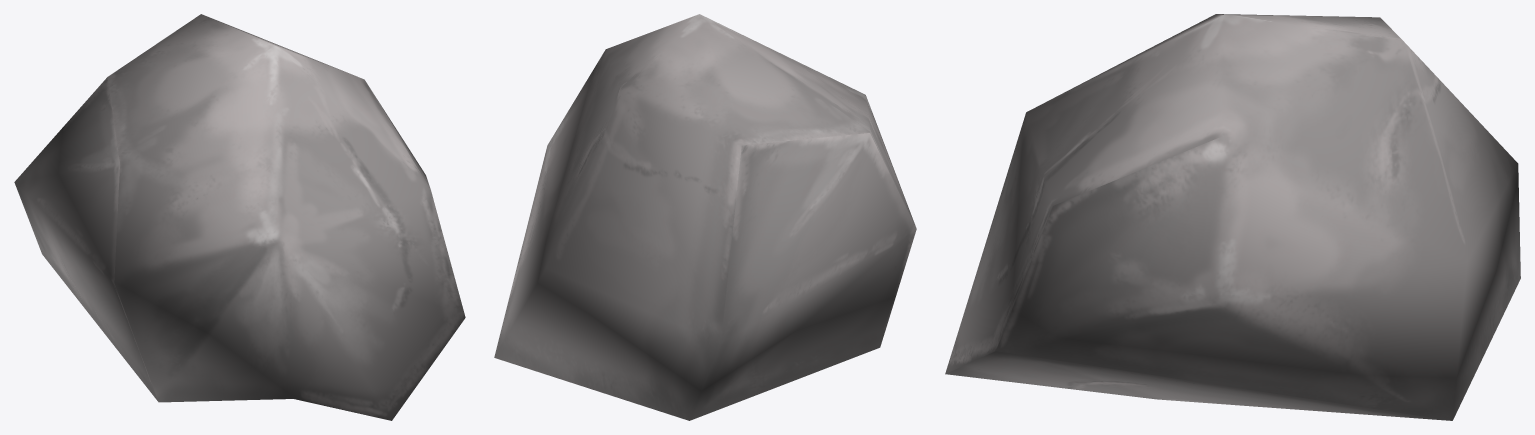
The model's file is rock_01.fbx.
The picture shows the model from 3 angles, left to right: view 1: azimuth 30°, elevation 25°; view 2: azimuth 150°, elevation 25°; view 3: azimuth 270°, elevation 25°; orthographic projection. The views are drawn at different scales.
Visible parts, largest first — view 1: pCube1; view 2: pCube1; view 3: pCube1.
Part boxes in pixels (x1,y1,x2,y2): pCube1: (14, 14, 465, 420); pCube1: (494, 14, 916, 420); pCube1: (945, 14, 1520, 420).
Bounding box in the file's own units: 11.29 × 10.2 × 13.9.
